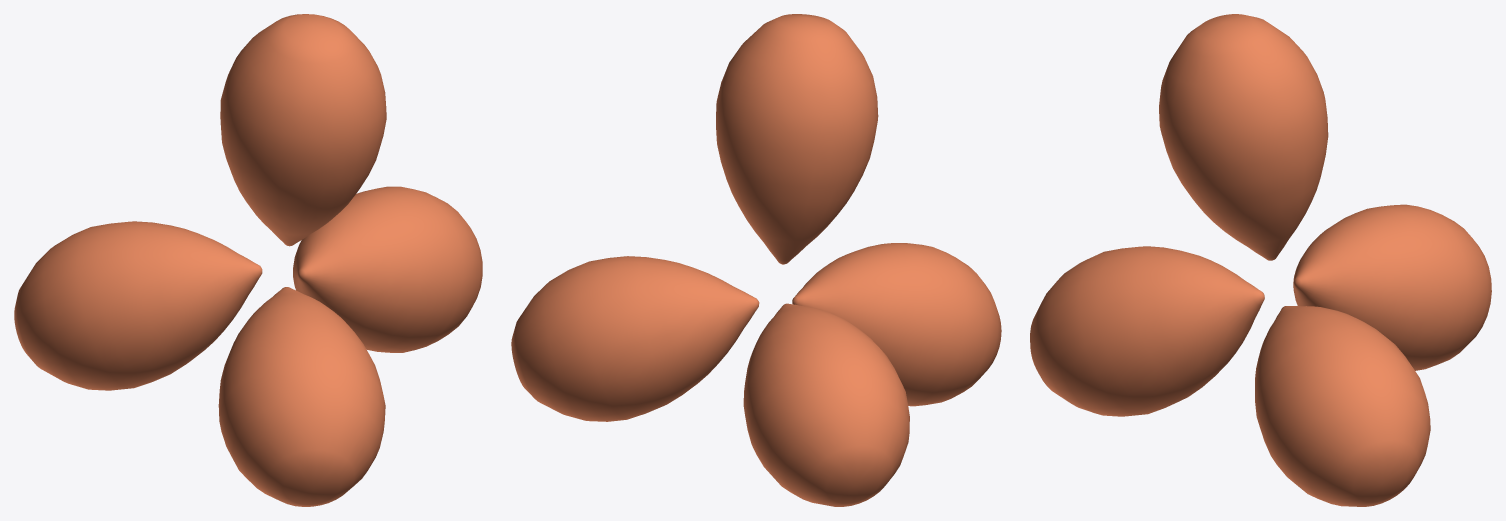
The picture shows the model from 3 angles, left to right: view 1: azimuth 30°, elevation 25°; view 2: azimuth 150°, elevation 25°; view 3: azimuth 270°, elevation 25°; orthographic projection. The views are drawn at different scales.
Parts seen in each view (by area): view 1: orbital 2, orbital 1, orbital 3, orbital 4; view 2: orbital 4, orbital 1, orbital 2, orbital 3; view 3: orbital 1, orbital 3, orbital 4, orbital 2.
Boxes of the visible parts, x1,y1,x2,y2 form: orbital 2: [14, 221, 262, 390]; orbital 1: [220, 14, 386, 246]; orbital 3: [218, 287, 385, 506]; orbital 4: [293, 186, 482, 352]; orbital 4: [511, 256, 759, 421]; orbital 1: [716, 14, 878, 264]; orbital 2: [743, 303, 909, 506]; orbital 3: [792, 243, 1001, 406]; orbital 1: [1159, 14, 1328, 260]; orbital 3: [1030, 246, 1264, 416]; orbital 4: [1255, 306, 1430, 506]; orbital 2: [1293, 204, 1491, 370].
Bounding box in the file's own units: 2.3 × 2.19 × 2.19.
